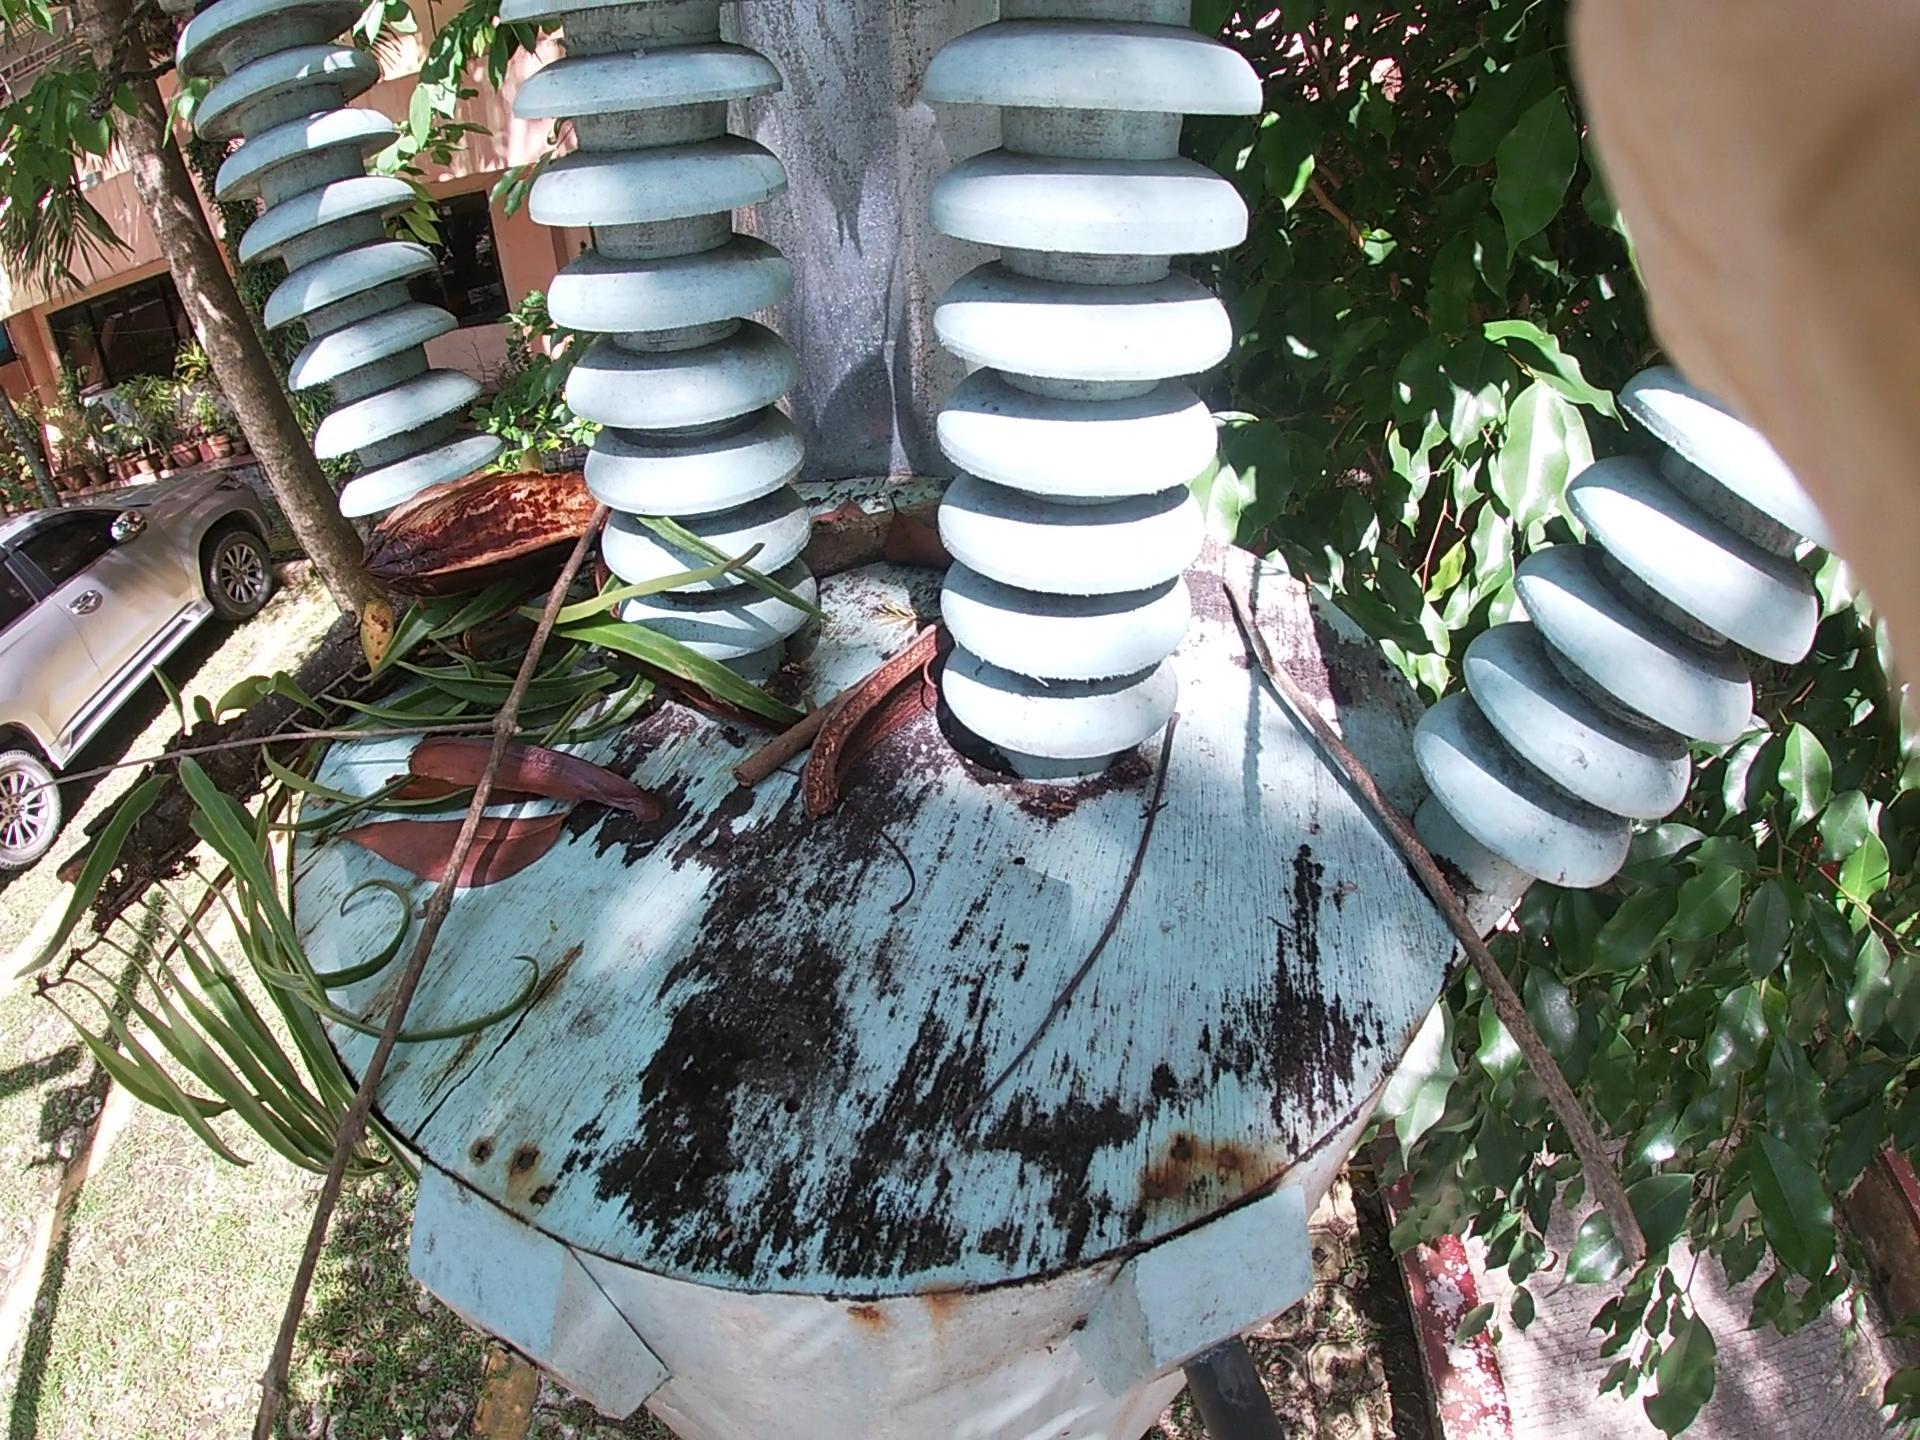branch with leaves: (135, 405, 968, 1109)
mahogany fruit: (773, 470, 1052, 862), (321, 343, 730, 597)
tree branch: (1214, 582, 1671, 1293), (314, 405, 568, 1398), (652, 484, 1203, 815), (974, 700, 1166, 1097)
